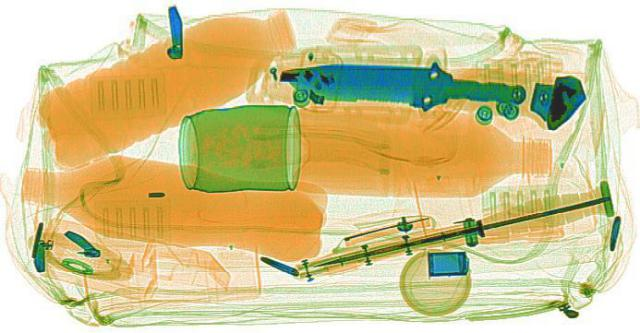Knife: (299, 180, 633, 279), (270, 49, 532, 117)
